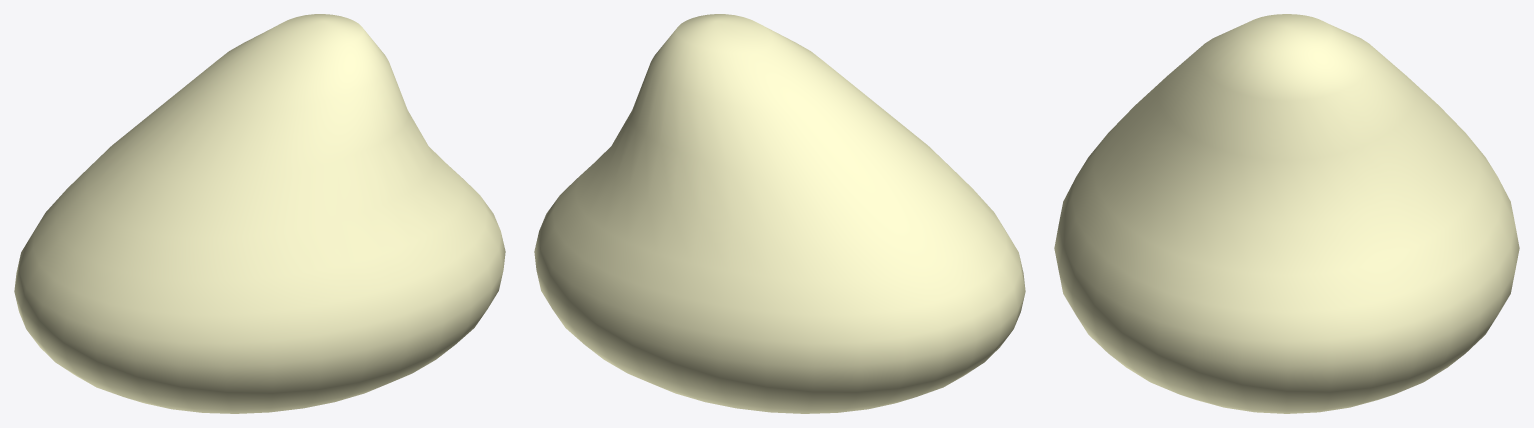
File: toothpowder.glb
The picture shows the model from 3 angles, left to right: view 1: azimuth 30°, elevation 25°; view 2: azimuth 150°, elevation 25°; view 3: azimuth 270°, elevation 25°; orthographic projection. The views are drawn at different scales.
Visible parts, largest first — view 1: Sphere; view 2: Sphere; view 3: Sphere.
Boxes of the visible parts, bbox=[...] form: Sphere: bbox=[14, 14, 505, 413]; Sphere: bbox=[534, 14, 1025, 413]; Sphere: bbox=[1054, 14, 1519, 413].
Bounding box in the file's own units: 1.8 × 1.32 × 1.5.
